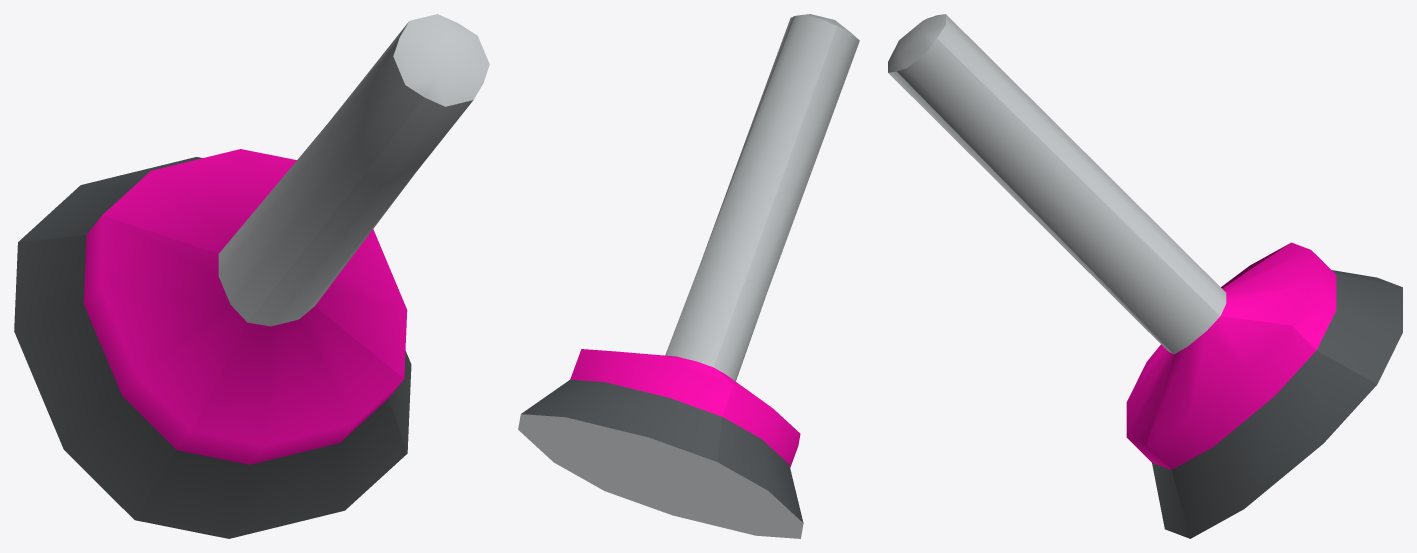
Rendered from shower_head.fbx.
The picture shows the model from 3 angles, left to right: view 1: azimuth 30°, elevation 25°; view 2: azimuth 150°, elevation 25°; view 3: azimuth 270°, elevation 25°; orthographic projection. The views are drawn at different scales.
Visible parts, largest first — view 1: pCube2; view 2: pCube2; view 3: pCube2.
Boxes of the visible parts, x1=… form: pCube2: x1=14, y1=14, x2=489, y2=538; pCube2: x1=518, y1=14, x2=859, y2=538; pCube2: x1=888, y1=14, x2=1402, y2=538.
Bounding box in the file's own units: 1 × 1.67 × 1.6.
